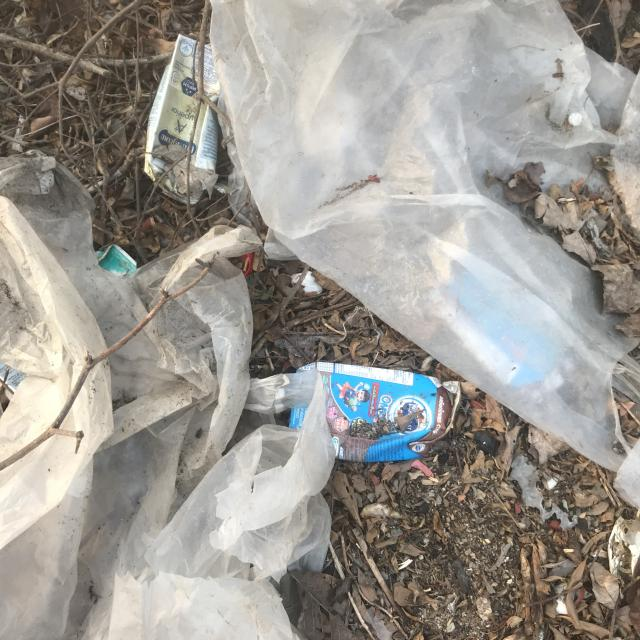Single-layer Plastic: (201, 0, 640, 474), (0, 152, 261, 640), (135, 376, 337, 582), (0, 364, 112, 640), (0, 196, 106, 461), (109, 572, 292, 640)
